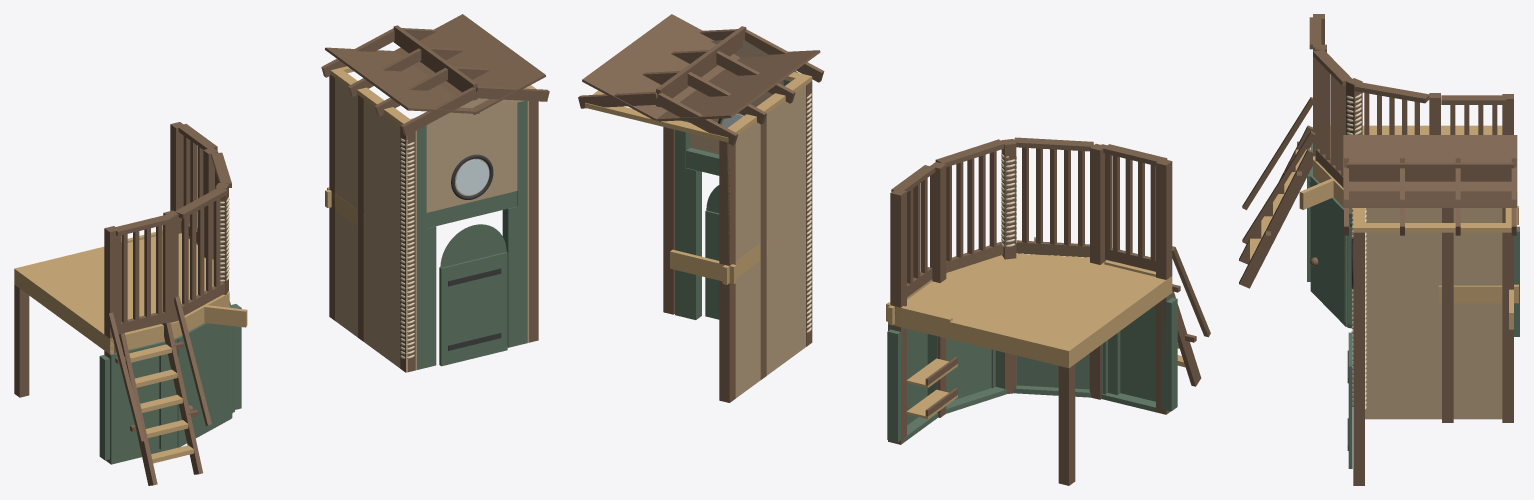
The model's file is playroom_build_mobile.glb.
3 views of the same model, side by side, from view 1: azimuth 30°, elevation 25°; view 2: azimuth 150°, elevation 25°; view 3: azimuth 270°, elevation 25° (orthographic). The views are drawn at different scales.
Parts seen in each view (by area): view 1: PH skin W (lower), PH skin S (over door), Hobbit door slab (playhouse), LoftDeck, Roof plane E, Skin D-Cp, Skin Cp-Bp, Roof plane W, King R, Post SW, King L, Post SE (+45 smaller); view 2: PH skin W (lower), LoftDeck, Roof plane E, Roof plane W, Post NW, Ledger N (north wall), Post Bp, Skin Cp-Bp, Post B, Post Cp, Post C, Ledger W (west wall) (+49 smaller); view 3: PH skin W (lower), Roof plane W, Skin D-Cp, Ridge board, Post SE, Roof plane E, Post WM, Post NW, Stringer L, Plate E, Future net header - playhouse, Grab rail L 2x2 (+28 smaller).
Part boxes in pixels (x1,y1,x2,y2): PH skin W (lower): [335, 78, 407, 372]; PH skin S (over door): [426, 102, 517, 212]; Hobbit door slab (playhouse): [439, 252, 507, 366]; LoftDeck: [14, 233, 213, 329]; Roof plane E: [394, 14, 545, 114]; Skin D-Cp: [176, 323, 231, 447]; Skin Cp-Bp: [110, 338, 177, 464]; Roof plane W: [325, 47, 479, 113]; King R: [517, 100, 527, 345]; Post SW: [400, 126, 415, 372]; King L: [417, 125, 426, 369]; Post SE: [529, 101, 538, 342]; PH skin W (lower): [727, 86, 805, 398]; LoftDeck: [906, 255, 1161, 347]; Roof plane E: [582, 14, 740, 120]; Roof plane W: [653, 50, 820, 121]; Post NW: [719, 140, 735, 402]; Ledger N (north wall): [893, 309, 1071, 368]; Post Bp: [1156, 158, 1172, 414]; Skin Cp-Bp: [1120, 291, 1173, 401]; Post B: [890, 188, 906, 444]; Post Cp: [1090, 143, 1106, 399]; Post C: [930, 162, 946, 417]; Ledger W (west wall): [1067, 276, 1172, 365]; PH skin W (lower): [1365, 208, 1502, 419]; Roof plane W: [1343, 135, 1517, 191]; Skin D-Cp: [1310, 176, 1347, 326]; Ridge board: [1346, 162, 1513, 181]; Post SE: [1353, 232, 1364, 485]; Roof plane E: [1343, 191, 1517, 207]; Post WM: [1442, 208, 1453, 422]; Post NW: [1502, 208, 1513, 422]; Stringer L: [1239, 149, 1312, 288]; Plate E: [1353, 223, 1511, 232]; Future net header - playhouse: [1438, 284, 1518, 303]; Grab rail L 2x2: [1242, 131, 1315, 243].
Size of the model in its own units: 4.22 by 2.43 by 2.13.
